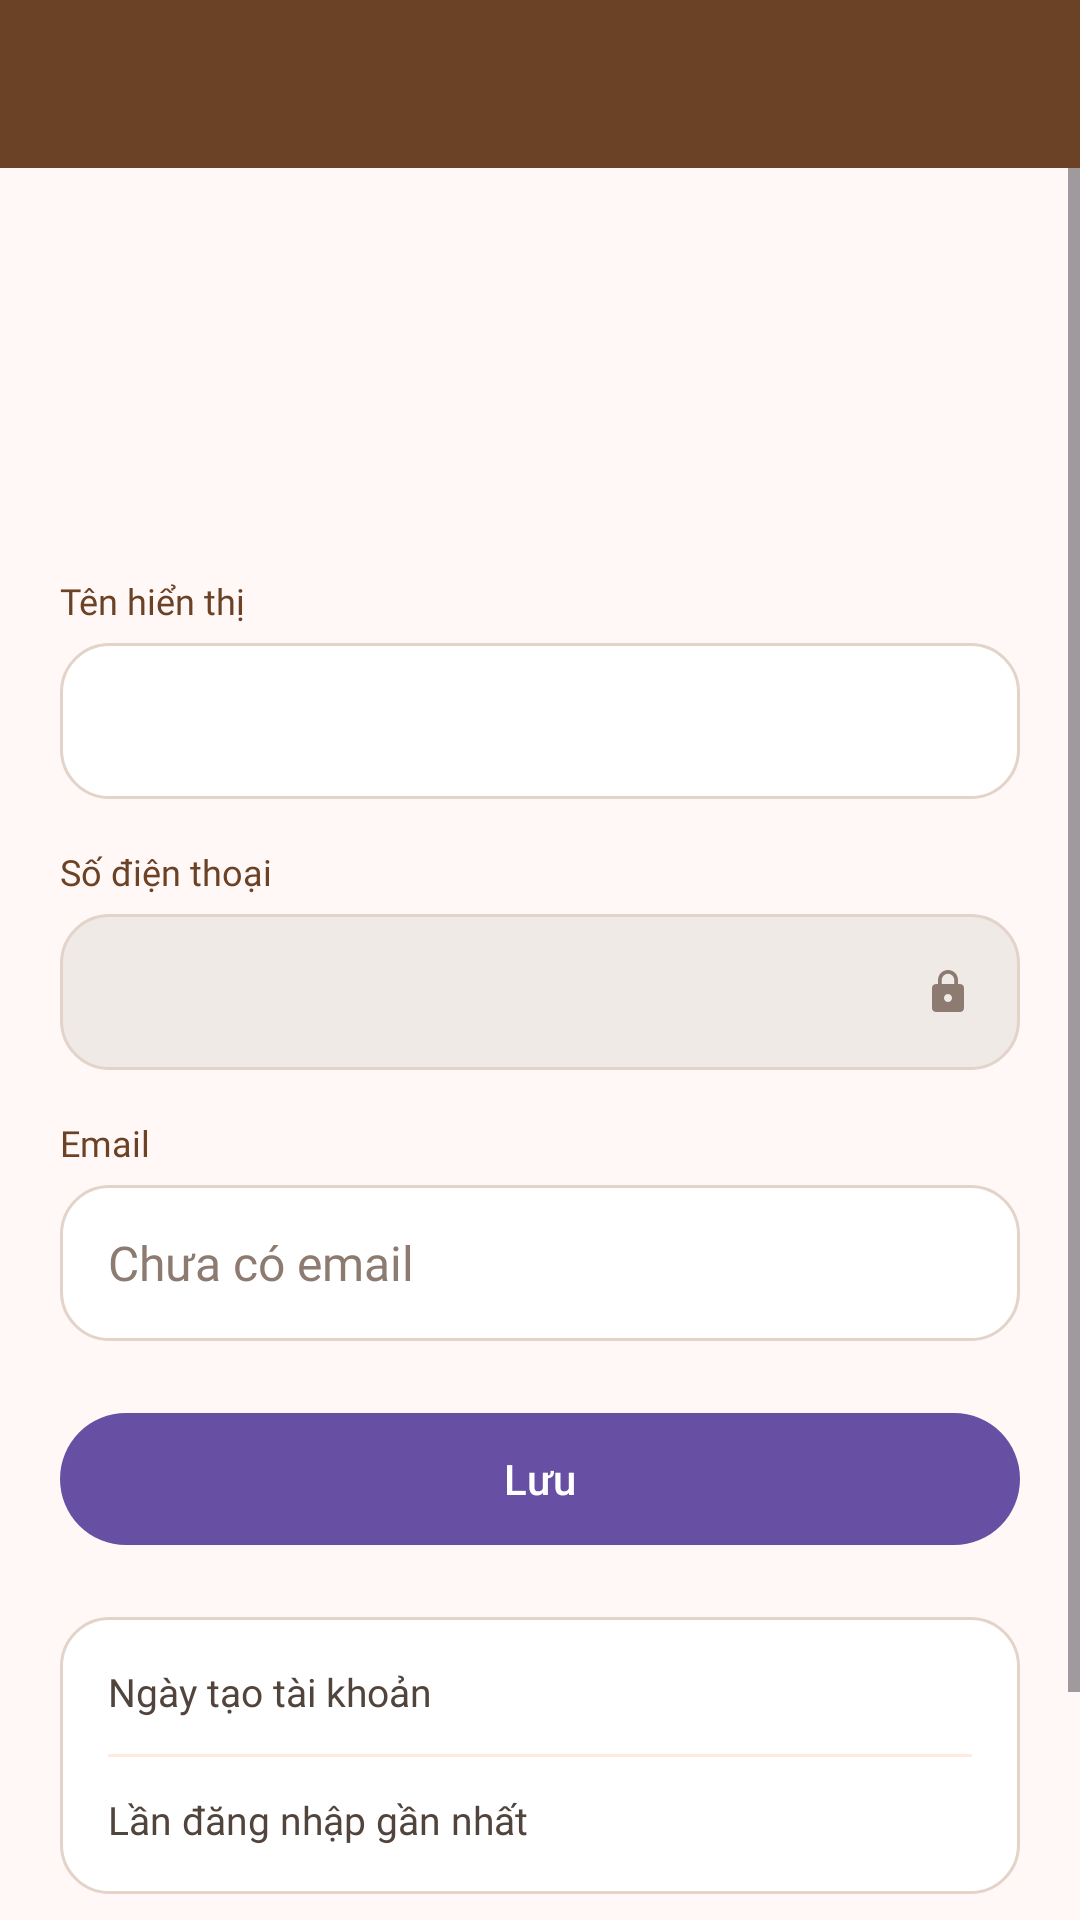

Named icons in this screenshot (1080 x 1920) and their centers, [x,y]:
Không thể sửa: [948,991]
